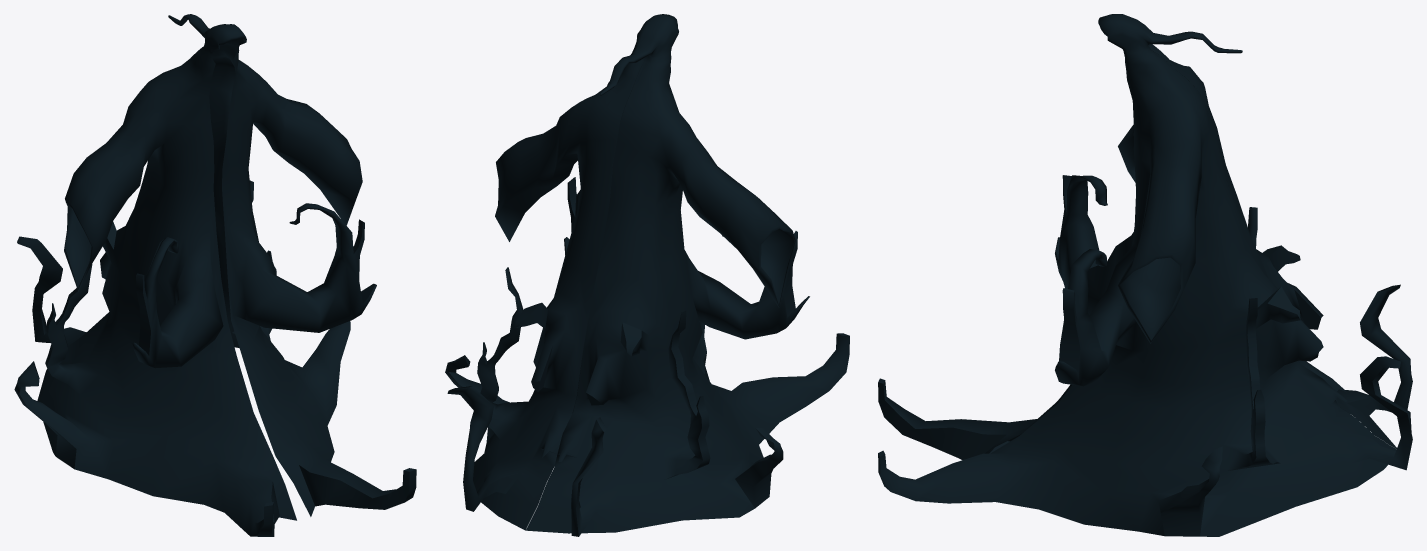
File: Death_Dress.fbx
The picture shows the model from 3 angles, left to right: view 1: azimuth 30°, elevation 25°; view 2: azimuth 150°, elevation 25°; view 3: azimuth 270°, elevation 25°; orthographic projection. The views are drawn at different scales.
Parts seen in each view (by area): view 1: Plane003; view 2: Plane003; view 3: Plane003.
Part boxes in pixels (box(x1,y1,x2,y2)): Plane003: box(14, 14, 416, 536); Plane003: box(445, 14, 849, 536); Plane003: box(878, 14, 1412, 536).
Bounding box in the file's own units: 397 × 499 × 524.
